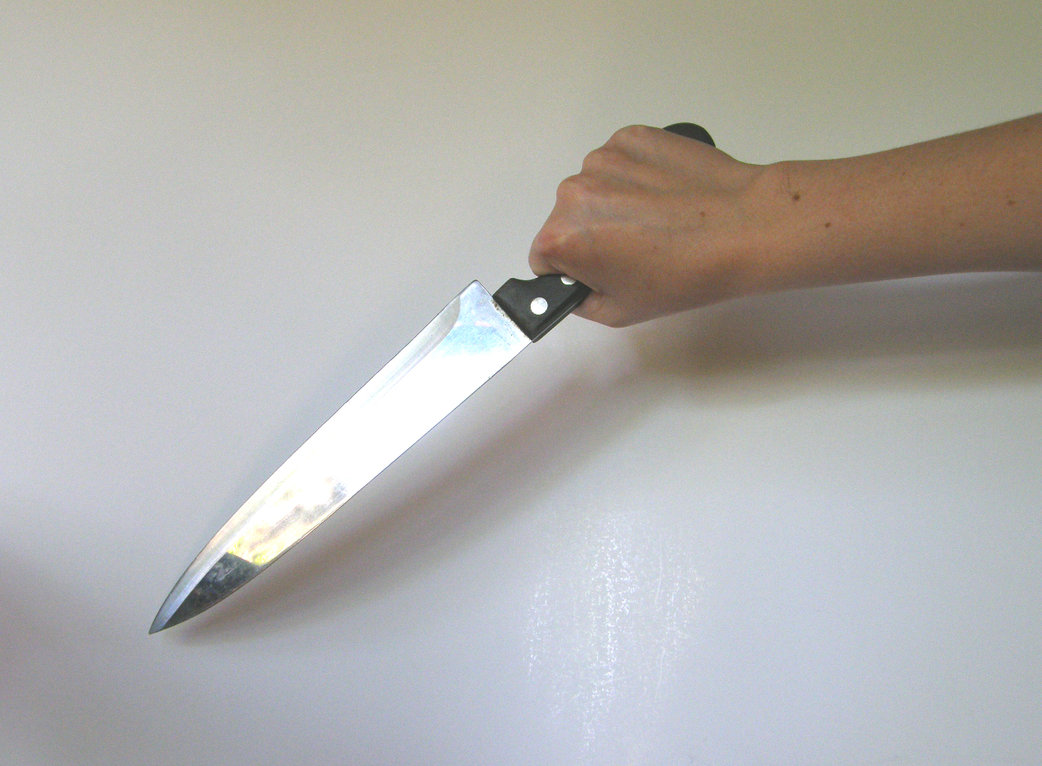knife: (127, 135, 676, 660)
